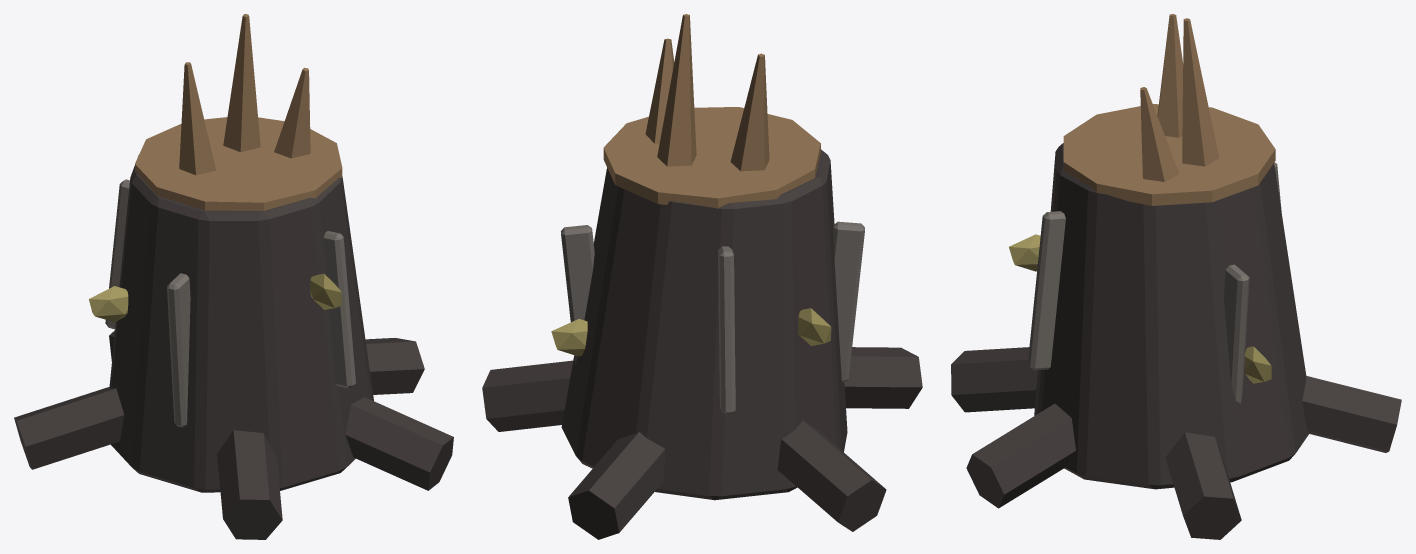
File: burnt_stump.glb
The picture shows the model from 3 angles, left to right: view 1: azimuth 30°, elevation 25°; view 2: azimuth 150°, elevation 25°; view 3: azimuth 270°, elevation 25°; orthographic projection. The views are drawn at different scales.
Parts seen in each view (by area): view 1: burnt_stump; view 2: burnt_stump; view 3: burnt_stump.
Boxes of the visible parts, left/top/right/bottom form: burnt_stump: left=14, top=14, right=453, bottom=539; burnt_stump: left=482, top=14, right=922, bottom=539; burnt_stump: left=951, top=14, right=1401, bottom=539.
Size of the model in its own units: 1.78 by 1.89 by 1.75.
